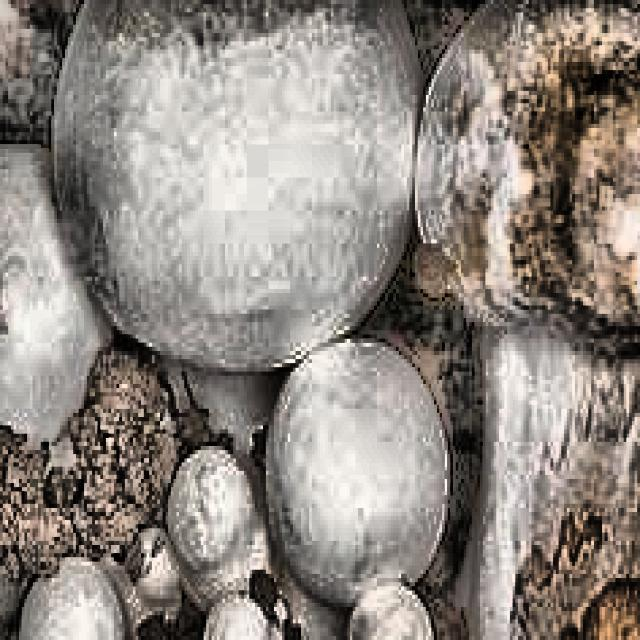Affected: (488, 33, 640, 264), (534, 437, 640, 640)
Healthy: (54, 0, 321, 299), (298, 362, 441, 528), (0, 198, 60, 376)
